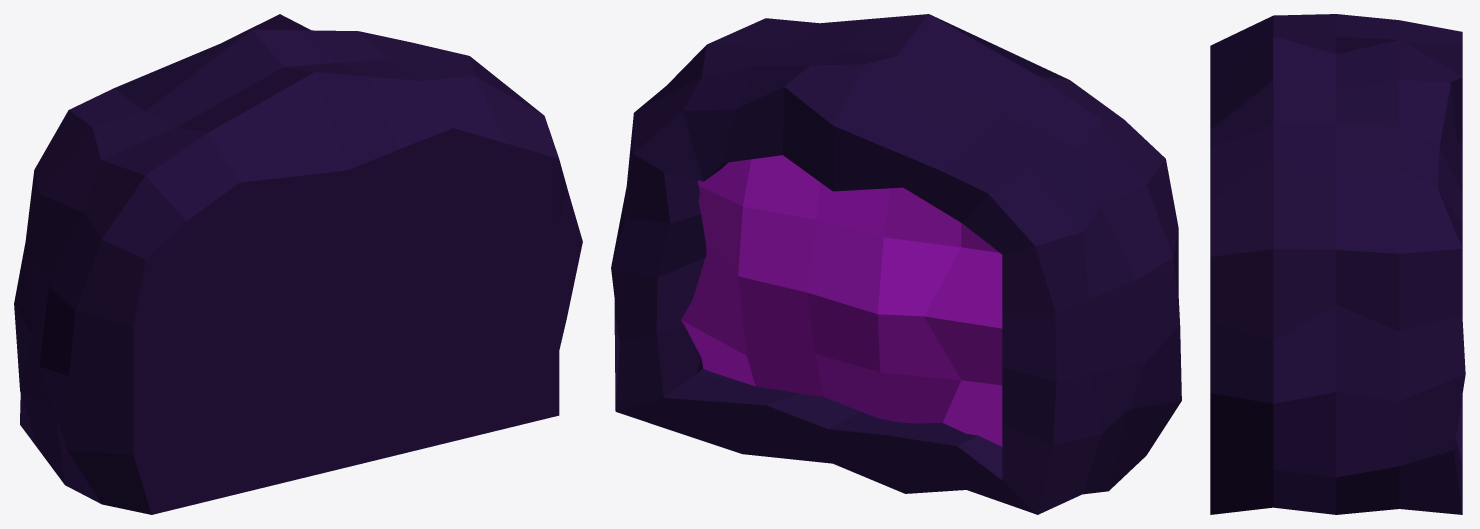
Rendered from cave.fbx.
The picture shows the model from 3 angles, left to right: view 1: azimuth 30°, elevation 25°; view 2: azimuth 150°, elevation 25°; view 3: azimuth 270°, elevation 25°; orthographic projection. The views are drawn at different scales.
Visible parts, largest first — view 1: Cave.001; view 2: Cave.001; view 3: Cave.001.
Boxes of the visible parts, x1,y1,x2,y2 form: Cave.001: (14,14,582,514); Cave.001: (611,14,1181,514); Cave.001: (1210,14,1465,514).
Bounding box in the file's own units: 474 × 349 × 202.
